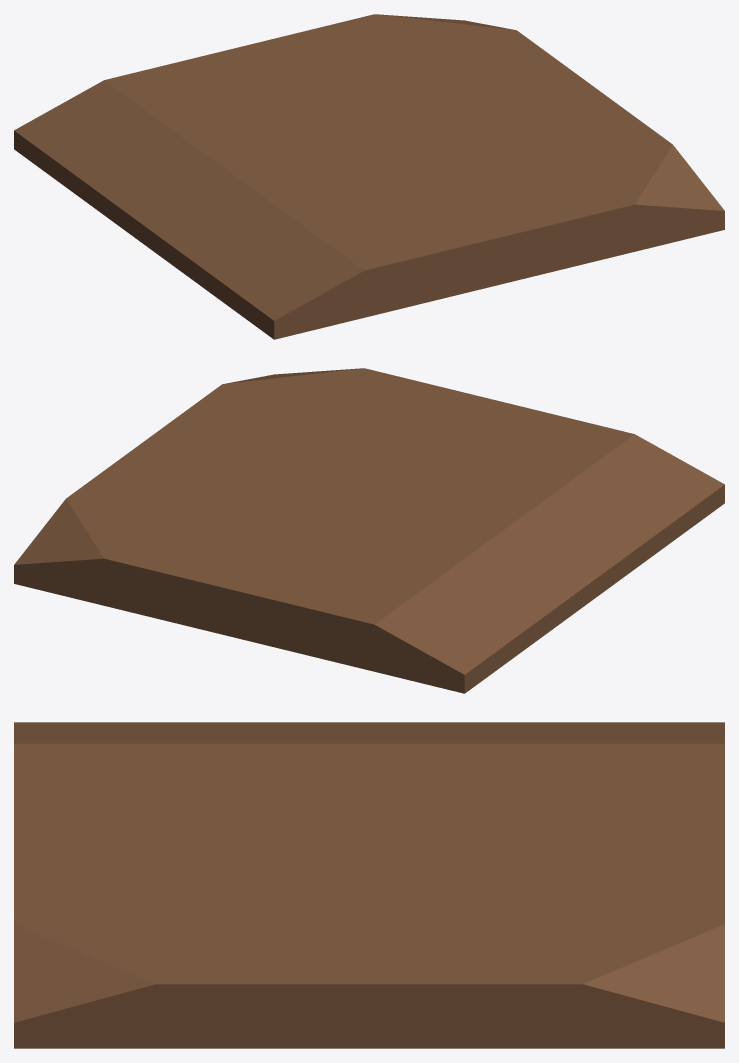
Rendered from street_T.fbx.
3 renders of one model, top to bottom at view 1: azimuth 30°, elevation 25°; view 2: azimuth 150°, elevation 25°; view 3: azimuth 270°, elevation 25°, orthographic. The views are drawn at different scales.
Parts seen in each view (by area): view 1: Cube; view 2: Cube; view 3: Cube.
Part boxes in pixels (bbox=[...]): Cube: bbox=[14, 14, 724, 339]; Cube: bbox=[14, 368, 724, 693]; Cube: bbox=[14, 722, 724, 1048].
Size of the model in its own units: 100 by 10 by 100.
